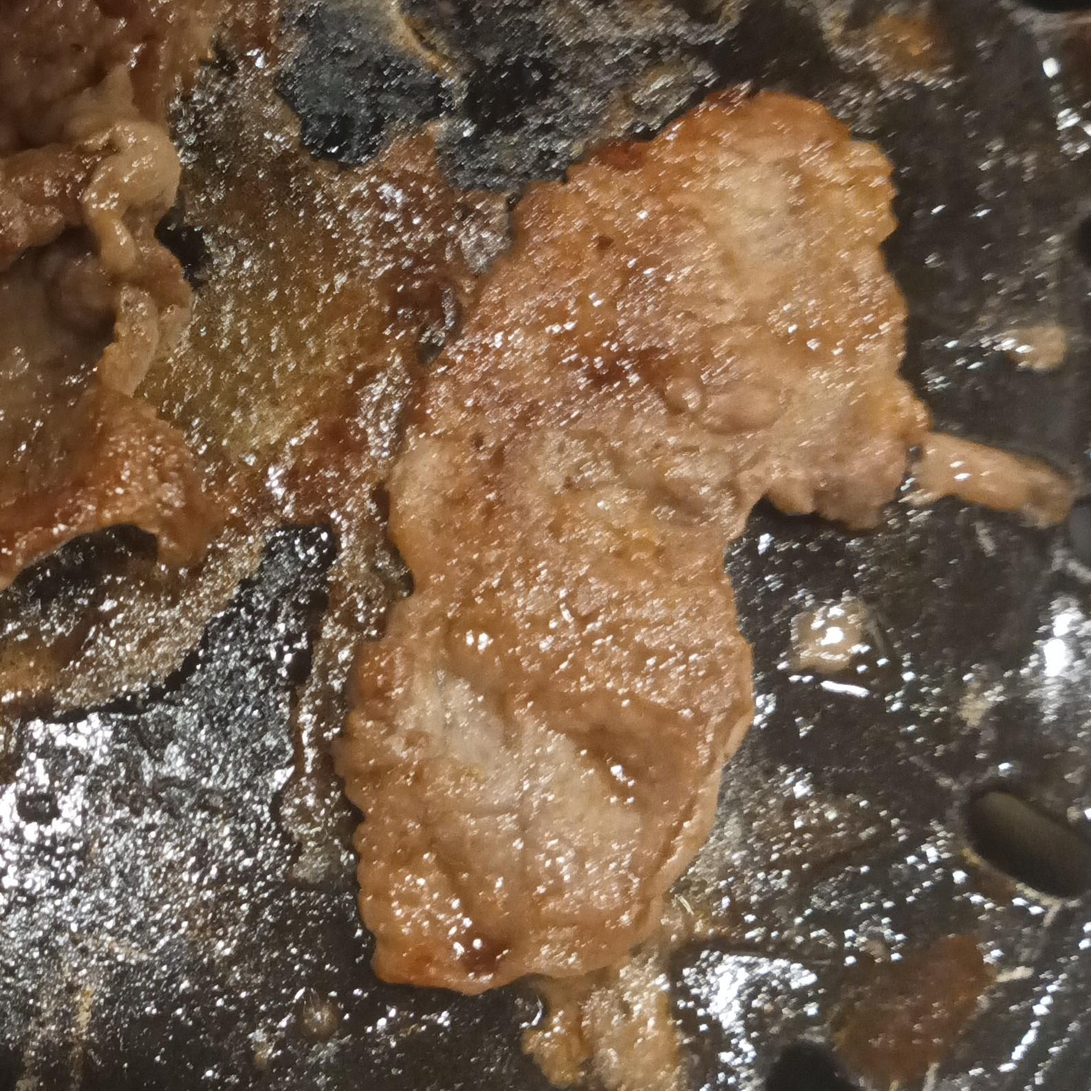Overcooked: (0, 0, 303, 803)
Well-Cooked: (326, 89, 936, 1017)
